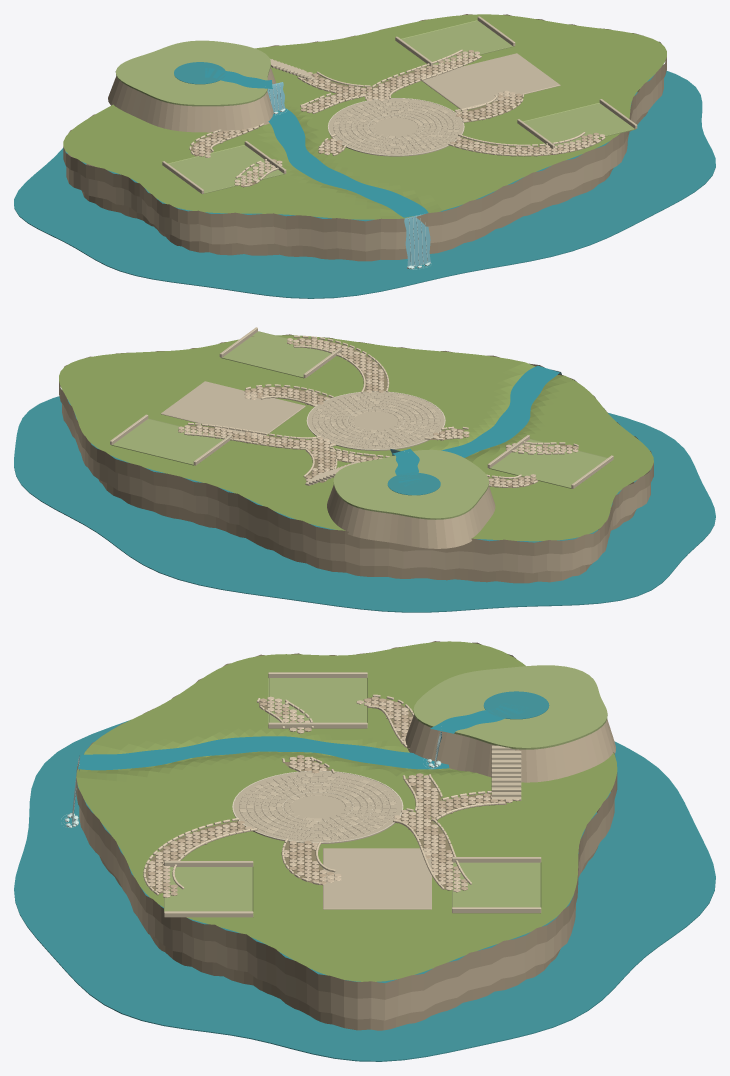
File: terrain.glb
The picture shows the model from 3 angles, top to bottom: view 1: azimuth 30°, elevation 25°; view 2: azimuth 150°, elevation 25°; view 3: azimuth 270°, elevation 25°; orthographic projection. The views are drawn at different scales.
Visible parts, largest first — view 1: V2_TerrainBatch__City_Grass, V2_TerrainBatch__City_Water, V2_TerrainBatch__City_Meadow, V2_TerrainBatch__City_Cliff_Light, V2_TerrainBatch__City_Cliff, V2_TerrainBatch__City_Paving, V2_TerrainBatch__City_Water_V2, V2_TerrainBatch__City_V2_Cream, V2_TerrainBatch__City_Limestone, V2_TerrainBatch__City_V2_Paver_1, V2_TerrainBatch__City_V2_Paver_0, V2_TerrainBatch__City_V2_Paver_2 (+4 smaller); view 2: V2_TerrainBatch__City_Grass, V2_TerrainBatch__City_Water, V2_TerrainBatch__City_Cliff_Light, V2_TerrainBatch__City_Meadow, V2_TerrainBatch__City_Cliff, V2_TerrainBatch__City_Paving, V2_TerrainBatch__City_Water_V2, V2_TerrainBatch__City_Limestone, V2_TerrainBatch__City_V2_Cream, V2_TerrainBatch__City_V2_Paver_1, V2_TerrainBatch__City_V2_Paver_0, V2_TerrainBatch__City_V2_Paver_2 (+2 smaller); view 3: V2_TerrainBatch__City_Grass, V2_TerrainBatch__City_Water, V2_TerrainBatch__City_Meadow, V2_TerrainBatch__City_Cliff_Light, V2_TerrainBatch__City_Paving, V2_TerrainBatch__City_Cliff, V2_TerrainBatch__City_Water_V2, V2_TerrainBatch__City_Limestone, V2_TerrainBatch__City_V2_Paver_1, V2_TerrainBatch__City_V2_Paver_0, V2_TerrainBatch__City_V2_Cream, V2_TerrainBatch__City_V2_Paver_2 (+2 smaller).
Part boxes in pixels (bbox=[...]): V2_TerrainBatch__City_Grass: bbox=[63, 14, 666, 219]; V2_TerrainBatch__City_Water: bbox=[14, 62, 715, 298]; V2_TerrainBatch__City_Meadow: bbox=[115, 20, 635, 193]; V2_TerrainBatch__City_Cliff_Light: bbox=[66, 64, 663, 251]; V2_TerrainBatch__City_Cliff: bbox=[63, 14, 666, 261]; V2_TerrainBatch__City_Paving: bbox=[328, 53, 560, 156]; V2_TerrainBatch__City_Water_V2: bbox=[205, 68, 428, 217]; V2_TerrainBatch__City_V2_Cream: bbox=[189, 49, 605, 186]; V2_TerrainBatch__City_Limestone: bbox=[162, 16, 637, 193]; V2_TerrainBatch__City_V2_Paver_1: bbox=[199, 51, 598, 183]; V2_TerrainBatch__City_V2_Paver_0: bbox=[193, 50, 598, 187]; V2_TerrainBatch__City_V2_Paver_2: bbox=[193, 53, 604, 185]; V2_TerrainBatch__City_Grass: bbox=[59, 335, 653, 541]; V2_TerrainBatch__City_Water: bbox=[14, 396, 715, 612]; V2_TerrainBatch__City_Cliff_Light: bbox=[62, 404, 650, 573]; V2_TerrainBatch__City_Meadow: bbox=[111, 331, 607, 519]; V2_TerrainBatch__City_Cliff: bbox=[59, 334, 653, 583]; V2_TerrainBatch__City_Paving: bbox=[161, 381, 444, 450]; V2_TerrainBatch__City_Water_V2: bbox=[392, 365, 559, 486]; V2_TerrainBatch__City_Limestone: bbox=[110, 327, 613, 488]; V2_TerrainBatch__City_V2_Cream: bbox=[184, 335, 578, 487]; V2_TerrainBatch__City_V2_Paver_1: bbox=[178, 338, 572, 485]; V2_TerrainBatch__City_V2_Paver_0: bbox=[178, 341, 578, 486]; V2_TerrainBatch__City_V2_Paver_2: bbox=[184, 338, 578, 487]; V2_TerrainBatch__City_Grass: bbox=[76, 641, 617, 981]; V2_TerrainBatch__City_Water: bbox=[14, 691, 715, 1061]; V2_TerrainBatch__City_Meadow: bbox=[164, 665, 607, 911]; V2_TerrainBatch__City_Cliff_Light: bbox=[79, 715, 615, 1020]; V2_TerrainBatch__City_Paving: bbox=[233, 771, 431, 909]; V2_TerrainBatch__City_Cliff: bbox=[76, 641, 617, 1030]; V2_TerrainBatch__City_Water_V2: bbox=[78, 703, 526, 770]; V2_TerrainBatch__City_Limestone: bbox=[164, 672, 541, 917]; V2_TerrainBatch__City_V2_Paver_1: bbox=[148, 700, 519, 892]; V2_TerrainBatch__City_V2_Paver_0: bbox=[148, 696, 504, 895]; V2_TerrainBatch__City_V2_Cream: bbox=[143, 694, 505, 895]; V2_TerrainBatch__City_V2_Paver_2: bbox=[148, 696, 490, 897].
Bounding box in the file's own units: 93.26 × 10.33 × 70.71.
